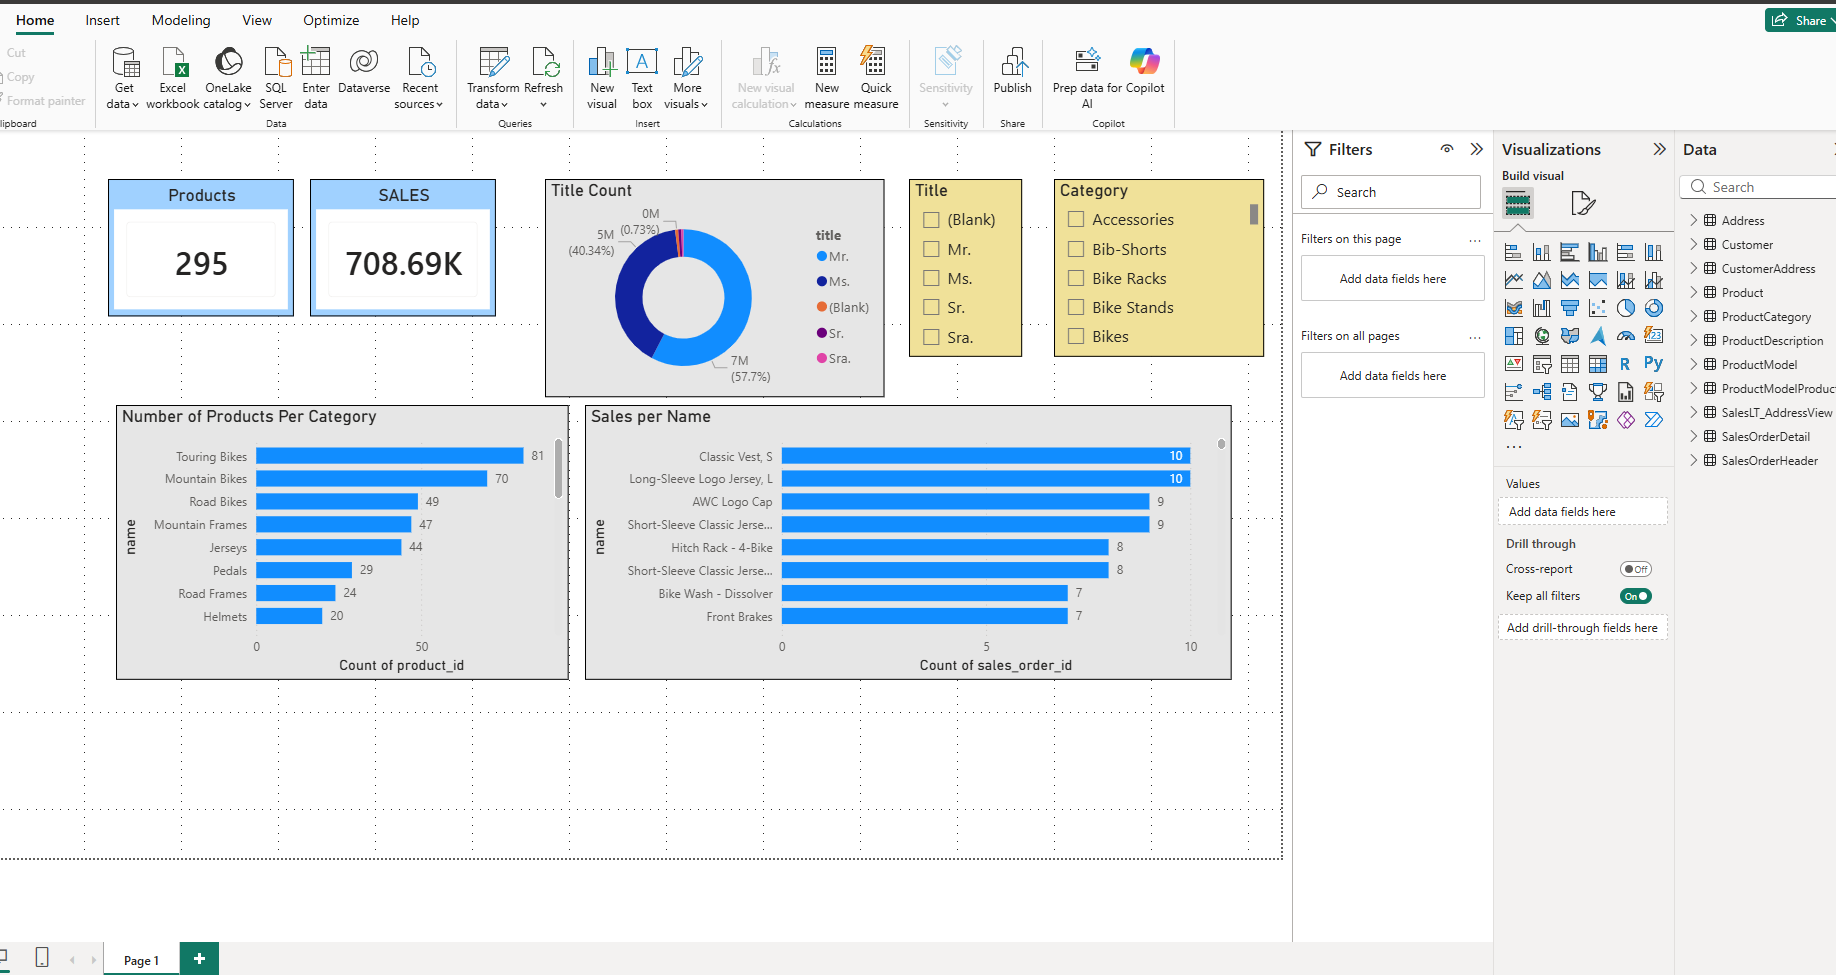

What the dashboard file says about the page in this screenshot:
{"tool":"powerbi","page":{"name":"Page 1","canvas":[1280,720],"ordinal":0},"visuals":[{"type":"cardVisual","title":"SALES","fields":{"Data":["Sum(SalesOrderDetail.line_total)"]},"box":[320,48,184,136],"z":0},{"type":"cardVisual","title":"Products","fields":{"Data":["CountNonNull(Product.product_id)"]},"box":[120,48,184,136],"z":1000},{"type":"barChart","title":"Number of Products Per Category","fields":{"Category":["ProductCategory.name"],"Y":["CountNonNull(SalesOrderDetail.product_id)"]},"box":[128,272,448,272],"z":2000},{"type":"donutChart","title":"Title Count","fields":{"Category":["Customer.title"],"Y":["Sum(Customer.customer_id)"]},"box":[552,48,336,216],"z":3000},{"type":"barChart","title":"Sales per Name","fields":{"Category":["Product.name"],"Y":["CountNonNull(SalesOrderDetail.sales_order_id)"]},"box":[592,272,640,272],"z":4000},{"type":"slicer","title":"Title","fields":{"Values":["Customer.title"]},"box":[912,48,112,176],"z":5000},{"type":"slicer","title":"Category","fields":{"Values":["ProductCategory.name"]},"box":[1056,48,208,176],"z":6000}]}

Visuals, with their boxes on the page's 1280x720 design canvas (x1, y1, x2, y2). These are canvas units, not pixel positions in the 1836x975 screenshot, which may show the page scaled, cropped or inside an application window:
"SALES" cardVisual: Rect(320, 48, 504, 184)
"Products" cardVisual: Rect(120, 48, 304, 184)
"Number of Products Per Category" barChart: Rect(128, 272, 576, 544)
"Title Count" donutChart: Rect(552, 48, 888, 264)
"Sales per Name" barChart: Rect(592, 272, 1232, 544)
"Title" slicer: Rect(912, 48, 1024, 224)
"Category" slicer: Rect(1056, 48, 1264, 224)
